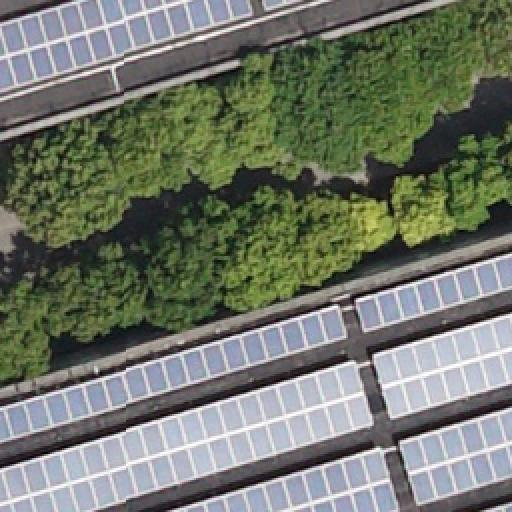solar-panel: (1, 358, 375, 512), (1, 302, 351, 442), (0, 1, 256, 95), (166, 444, 402, 512), (369, 309, 511, 419), (353, 251, 511, 333), (400, 404, 512, 504), (473, 497, 511, 511), (262, 0, 302, 12)
